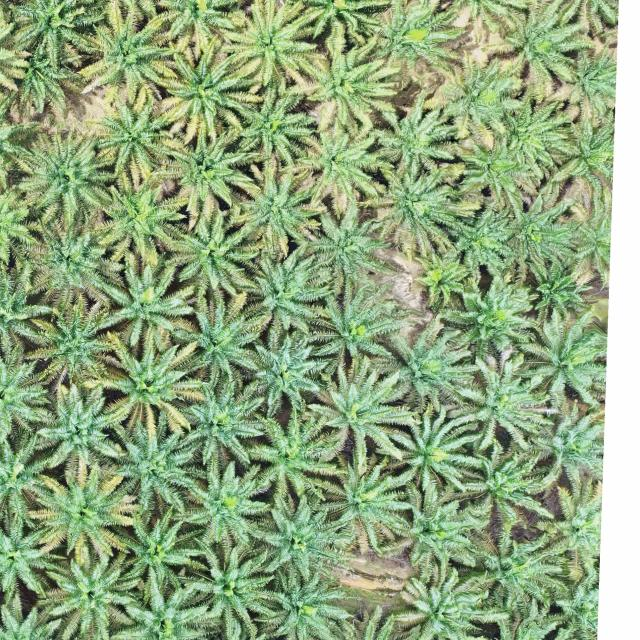Tree: (302, 348, 425, 474), (94, 329, 209, 449), (23, 452, 141, 568), (362, 156, 482, 261), (380, 478, 492, 587), (451, 346, 558, 454), (13, 130, 120, 237), (486, 0, 593, 104), (176, 530, 277, 640), (38, 536, 144, 640), (425, 45, 528, 152), (242, 395, 343, 504), (82, 88, 191, 189), (167, 290, 273, 393), (21, 287, 125, 390), (90, 4, 194, 107), (315, 456, 421, 557), (294, 110, 392, 219), (229, 156, 331, 259), (378, 398, 480, 501), (106, 506, 210, 607), (246, 489, 356, 583), (219, 0, 329, 94), (156, 42, 261, 140), (432, 275, 544, 366), (160, 121, 264, 219), (109, 412, 206, 517), (87, 172, 189, 270), (310, 32, 407, 134), (246, 240, 339, 346), (457, 437, 554, 537), (387, 312, 484, 411), (306, 277, 412, 367), (176, 374, 275, 470), (386, 565, 512, 640), (168, 211, 264, 309), (491, 185, 588, 281), (181, 456, 278, 550), (35, 376, 124, 478), (371, 86, 462, 185), (306, 193, 392, 297), (94, 255, 196, 342), (518, 305, 604, 408), (242, 326, 334, 422), (26, 213, 114, 310), (251, 562, 359, 640), (3, 0, 113, 71), (109, 570, 219, 640), (0, 44, 92, 123), (439, 200, 528, 280), (482, 532, 570, 611), (494, 90, 570, 178), (239, 83, 317, 168), (0, 518, 67, 606), (462, 132, 539, 206), (0, 436, 59, 526), (0, 347, 51, 444), (408, 245, 479, 312), (0, 259, 54, 347), (318, 602, 432, 640), (0, 588, 67, 640)
